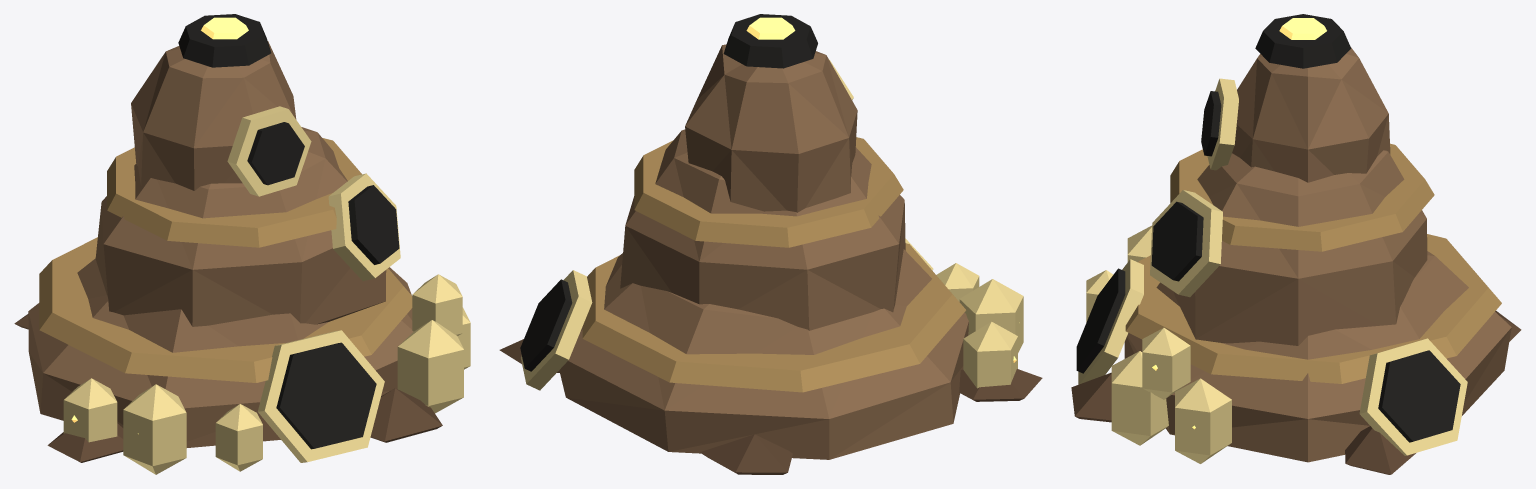
The model's file is Nest.fbx.
3 renders of one model, left to right at view 1: azimuth 30°, elevation 25°; view 2: azimuth 150°, elevation 25°; view 3: azimuth 270°, elevation 25°, orthographic.
Visible parts, largest first — view 1: Mound, WaxRims, Eggs, Openings, Lips, Footing, VentRim, Vent; view 2: Mound, WaxRims, Eggs, Footing, VentRim, Lips, Openings, Vent; view 3: Mound, WaxRims, Openings, Eggs, Lips, Footing, VentRim, Vent.
Part boxes in pixels (box(x1,y1,x2,y2)): Mound: box(28, 41, 413, 447); WaxRims: box(39, 138, 412, 382); Eggs: box(63, 274, 470, 474); Openings: box(247, 122, 399, 449); Lips: box(227, 106, 400, 462); Footing: box(14, 314, 442, 462); VentRim: box(178, 14, 271, 67); Vent: box(201, 17, 248, 39); Mound: box(559, 44, 968, 459); WaxRims: box(582, 137, 965, 392); Eggs: box(936, 263, 1023, 388); Footing: box(499, 339, 1042, 474); VentRim: box(723, 14, 817, 68); Lips: box(521, 59, 933, 390); Openings: box(520, 279, 572, 371); Vent: box(746, 17, 795, 39); Mound: box(1124, 47, 1511, 462); WaxRims: box(1125, 143, 1501, 383); Openings: box(1076, 91, 1460, 442); Eggs: box(1086, 225, 1231, 463); Lips: box(1078, 78, 1467, 455); Footing: box(1071, 311, 1521, 474); VentRim: box(1255, 14, 1351, 68); Vent: box(1279, 18, 1326, 39).
Bounding box in the file's own units: 5.23 × 4.13 × 4.69.
